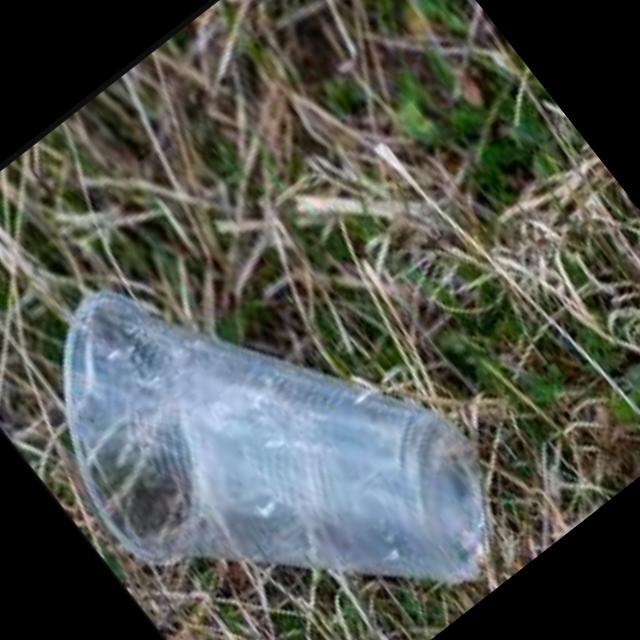GelasPlastik: (0, 161, 542, 640)
